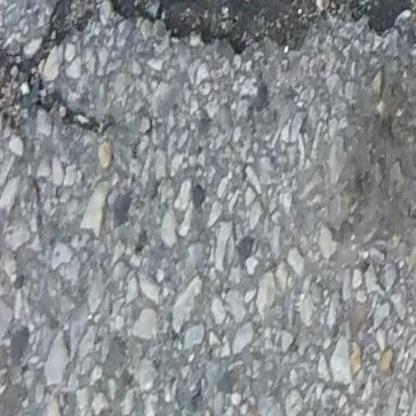Cracks: (0, 0, 416, 123)
